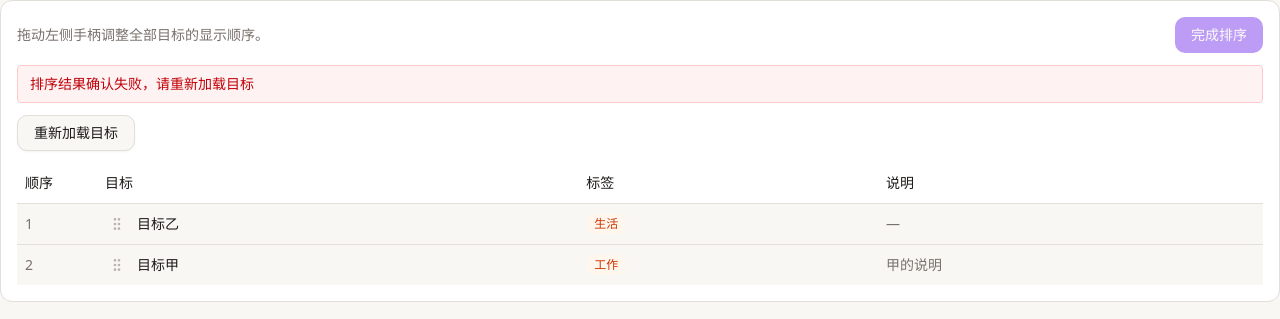
Test: GoalOrderEditor › keeps the optimistic order and requires reload when a save transport fails
This screenshot has width=1280, height=319.
Expected: the text "目标甲" is shown, [137, 254, 179, 274]
Expected: the message reads "排序结果确认失败，请重新加载目标", [30, 74, 254, 93]
Click the button "重新加载目标" at (76, 133), box [17, 115, 135, 151]
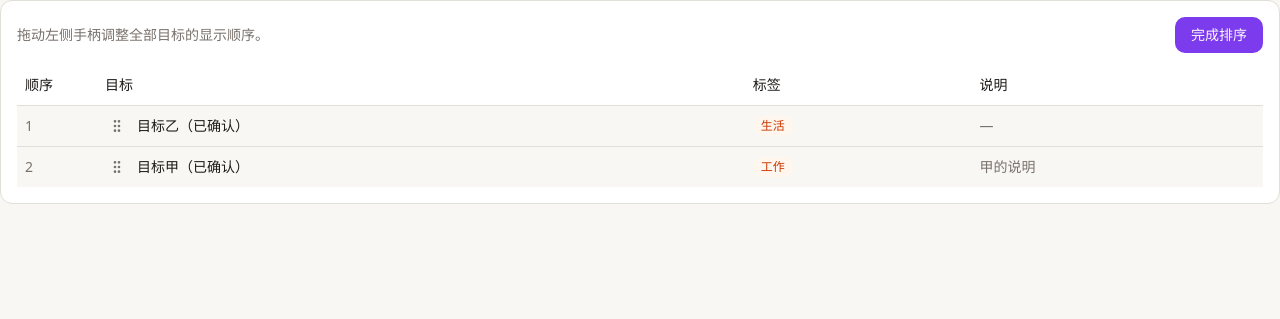
Result: the text "目标乙（已确认）" is shown at [137, 116, 249, 136]
Result: the message "排序结果确认失败，请重新加载目标" is gone
